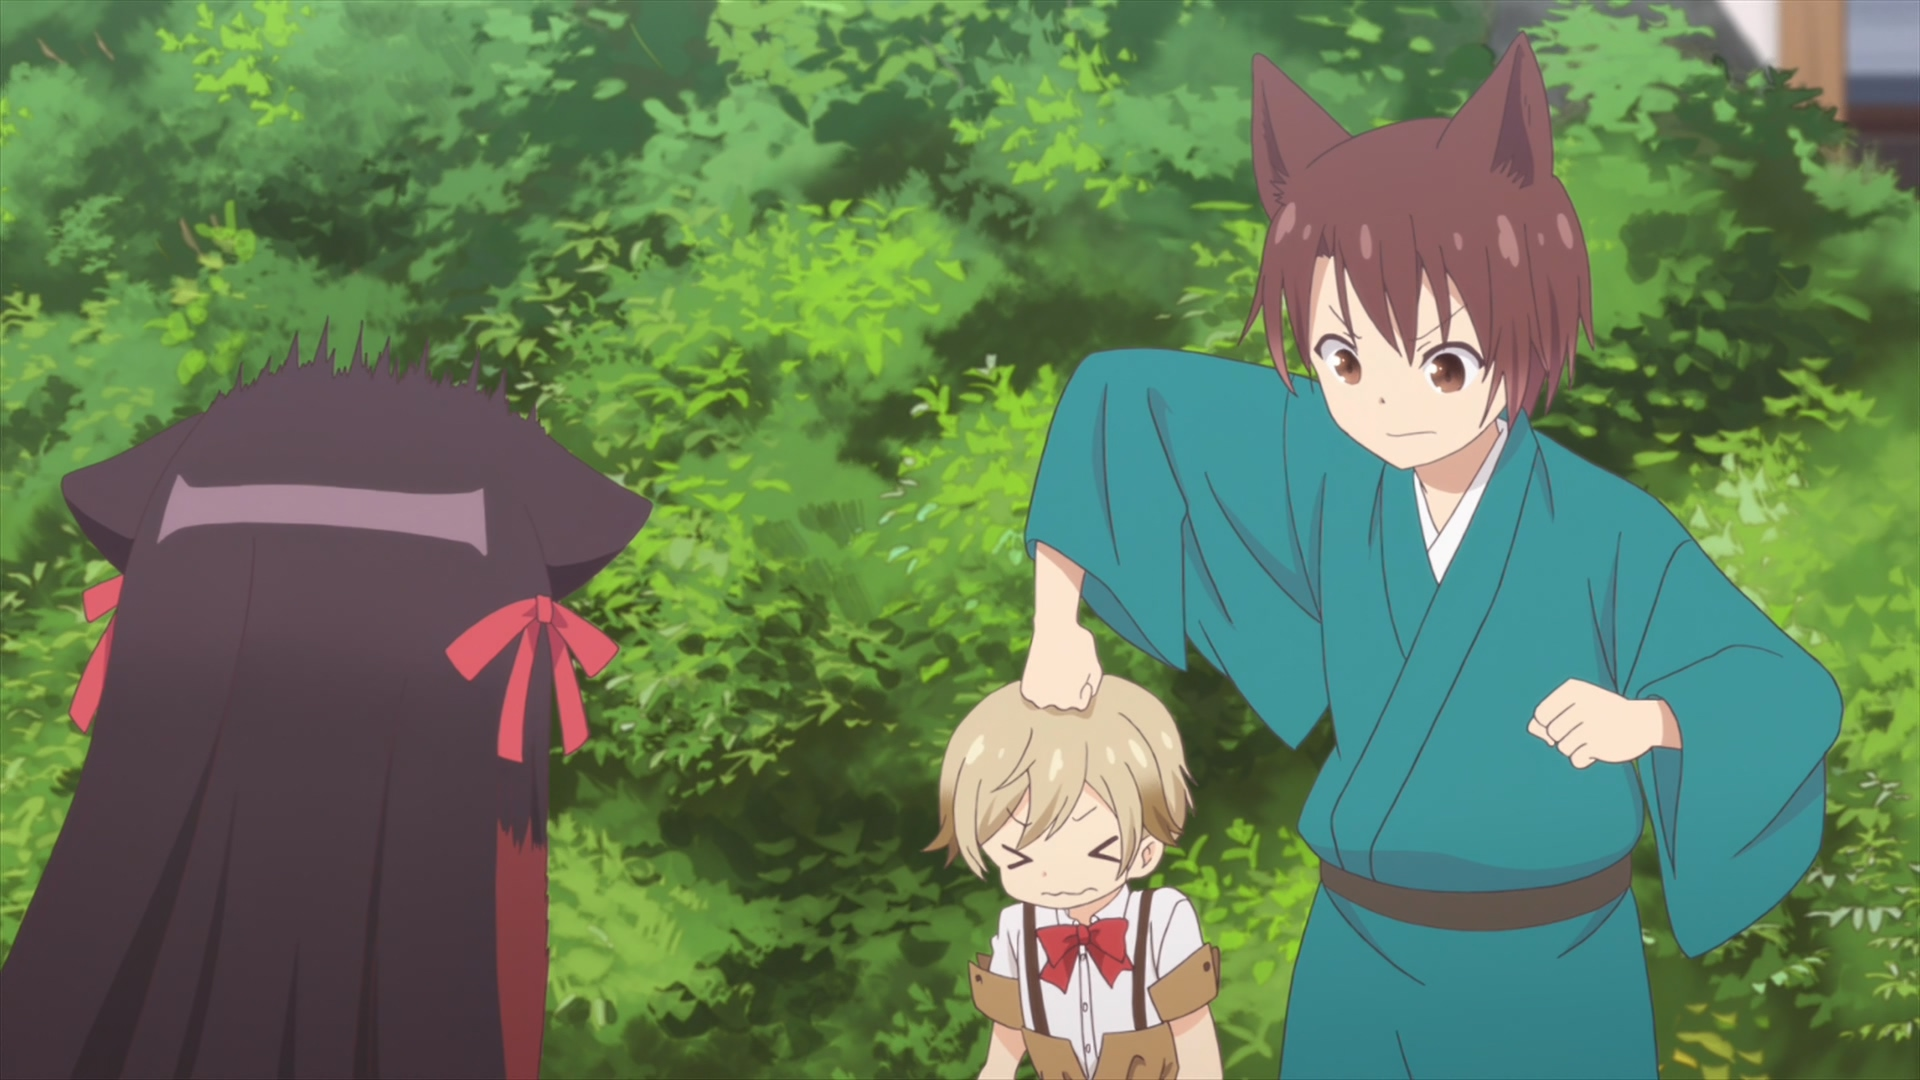其他: (924, 675, 1222, 1080)
枣: (1022, 32, 1845, 1080)
樱: (1, 316, 651, 1080)
